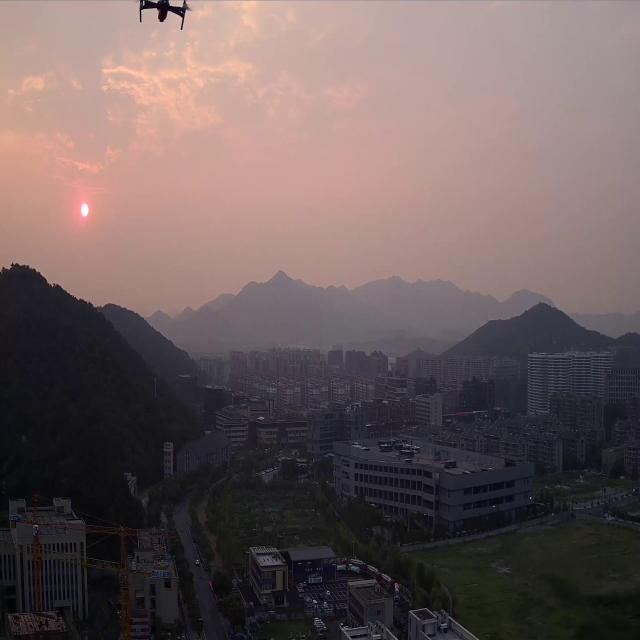UAV: (138, 0, 195, 31)
